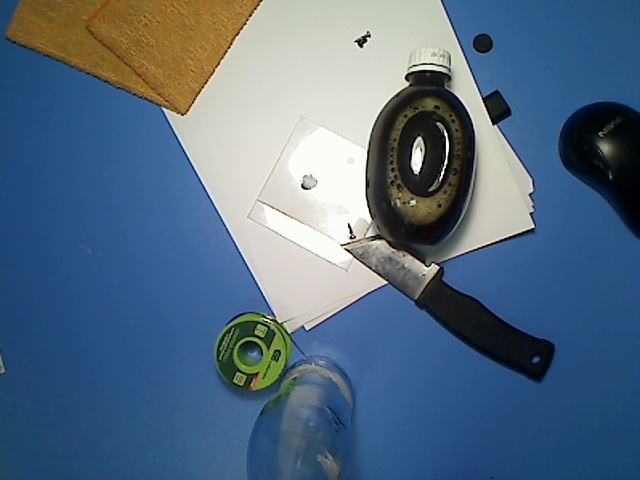plast_bottle: (362, 40, 490, 248)
